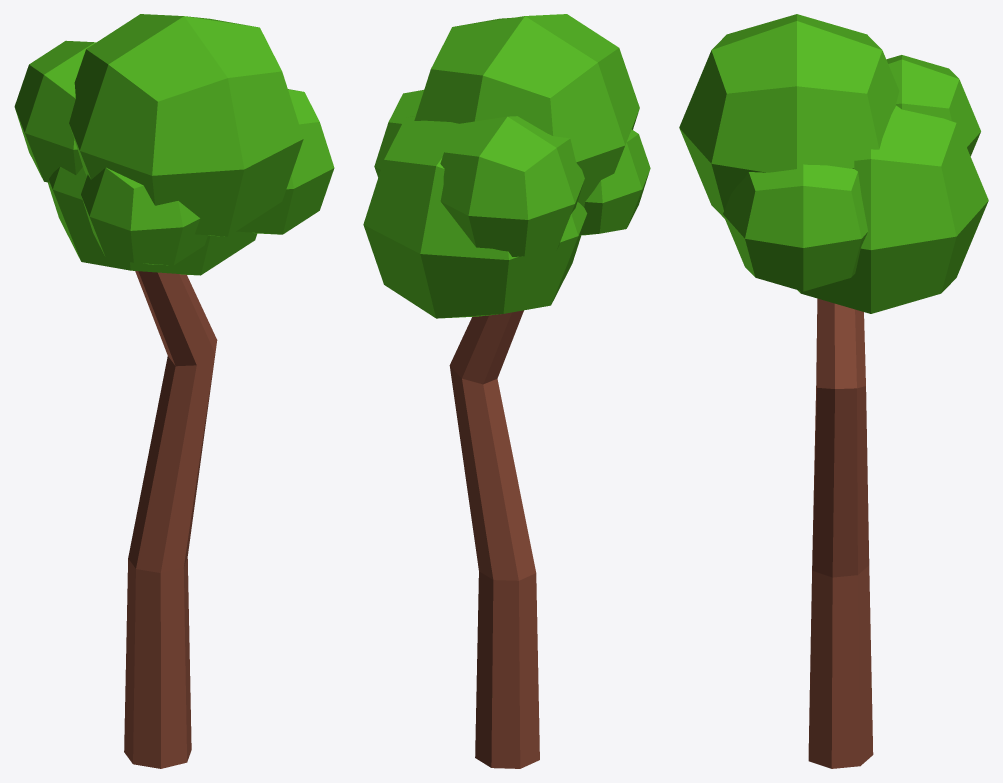
Rendered from lowPolyTree.glb.
3 views of the same model, side by side, from view 1: azimuth 30°, elevation 25°; view 2: azimuth 150°, elevation 25°; view 3: azimuth 270°, elevation 25° (orthographic). The views are drawn at different scales.
Parts seen in each view (by area): view 1: Tree; view 2: Tree; view 3: Tree.
Part boxes in pixels (bbox=[...]): Tree: bbox=[14, 14, 334, 768]; Tree: bbox=[363, 14, 650, 768]; Tree: bbox=[679, 14, 988, 768].
Bounding box in the file's own units: 1.36 × 3.88 × 1.48.
1 material, 1 textured.
